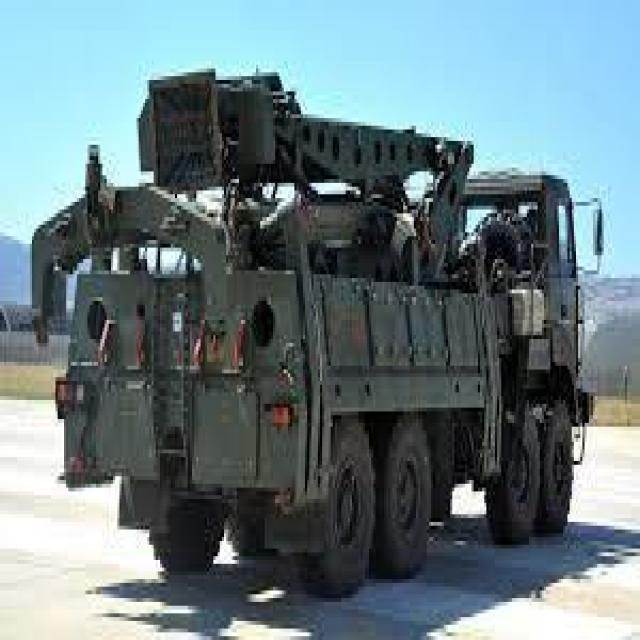Tanks: (35, 46, 571, 556)
